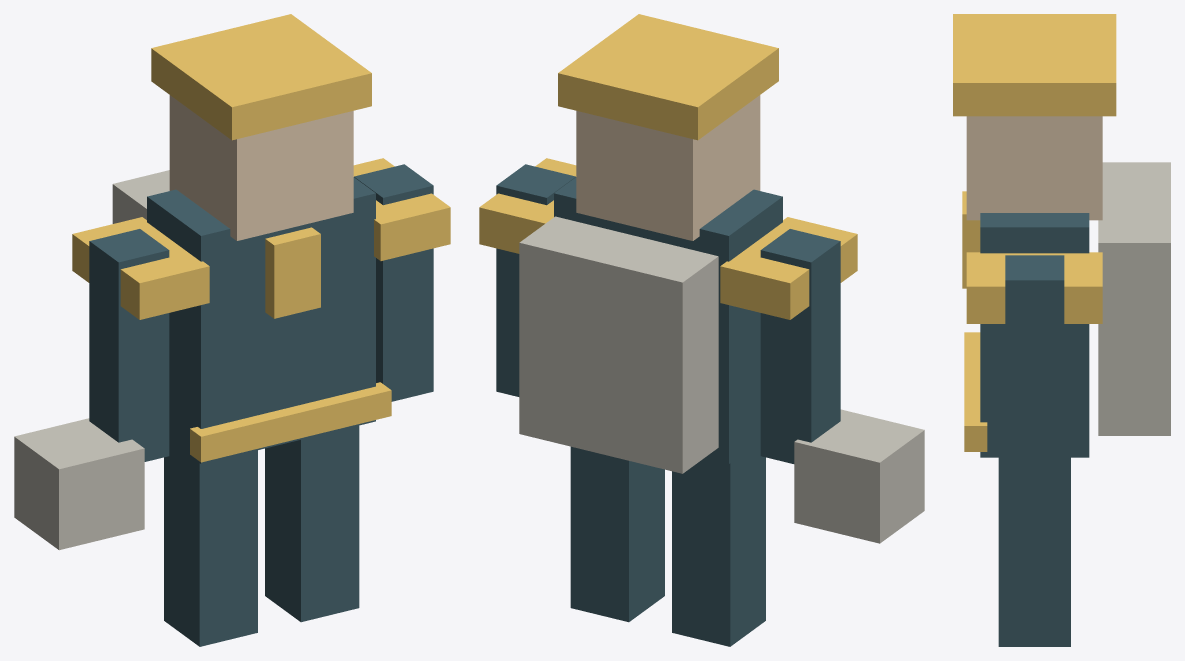
File: 01_varren_stormhush_ranger_near.glb
The picture shows the model from 3 angles, left to right: view 1: azimuth 30°, elevation 25°; view 2: azimuth 150°, elevation 25°; view 3: azimuth 270°, elevation 25°; orthographic projection.
Visible parts, largest first — view 1: Varren Stormhush, Ranger near; view 2: Varren Stormhush, Ranger near; view 3: Varren Stormhush, Ranger near.
Boxes of the visible parts, x1=… form: Varren Stormhush, Ranger near: x1=14, y1=14, x2=450, y2=646; Varren Stormhush, Ranger near: x1=479, y1=14, x2=924, y2=646; Varren Stormhush, Ranger near: x1=953, y1=14, x2=1170, y2=646.
Bounding box in the file's own units: 1.08 × 1.48 × 0.5229.
